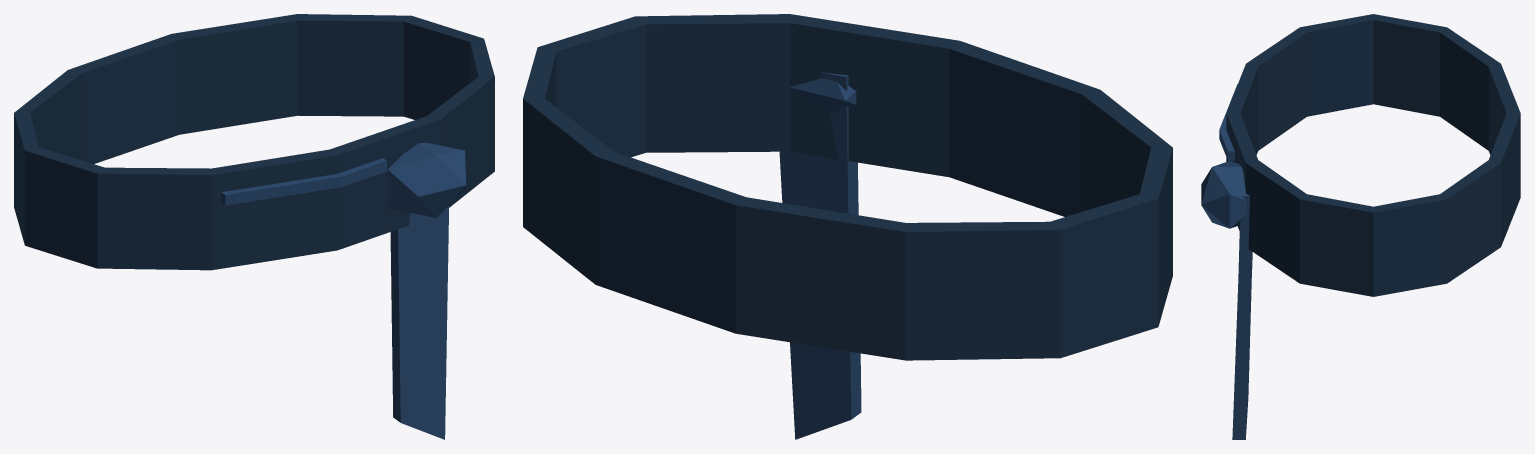
The model's file is cloth_waist-male.glb.
3 renders of one model, left to right at view 1: azimuth 30°, elevation 25°; view 2: azimuth 150°, elevation 25°; view 3: azimuth 270°, elevation 25°, orthographic. The views are drawn at different scales.
Parts seen in each view (by area): view 1: cloth waist band, Sash falling end, Sash knot, Sash folded waist seam; view 2: cloth waist band, Sash falling end, Sash knot; view 3: cloth waist band, Sash falling end, Sash knot, Sash folded waist seam.
Part boxes in pixels (x1=…): cloth waist band: x1=14, y1=14, x2=494, y2=270; Sash falling end: x1=390, y1=205, x2=449, y2=439; Sash knot: x1=387, y1=143, x2=466, y2=217; Sash folded waist seam: x1=221, y1=158, x2=386, y2=205; cloth waist band: x1=523, y1=14, x2=1172, y2=360; Sash falling end: x1=779, y1=72, x2=861, y2=439; Sash knot: x1=790, y1=78, x2=856, y2=112; cloth waist band: x1=1226, y1=14, x2=1520, y2=296; Sash falling end: x1=1232, y1=193, x2=1252, y2=439; Sash knot: x1=1201, y1=161, x2=1247, y2=228; Sash folded waist seam: x1=1219, y1=84, x2=1237, y2=160.
Size of the model in its own units: 1.82 by 1.19 by 1.24.
